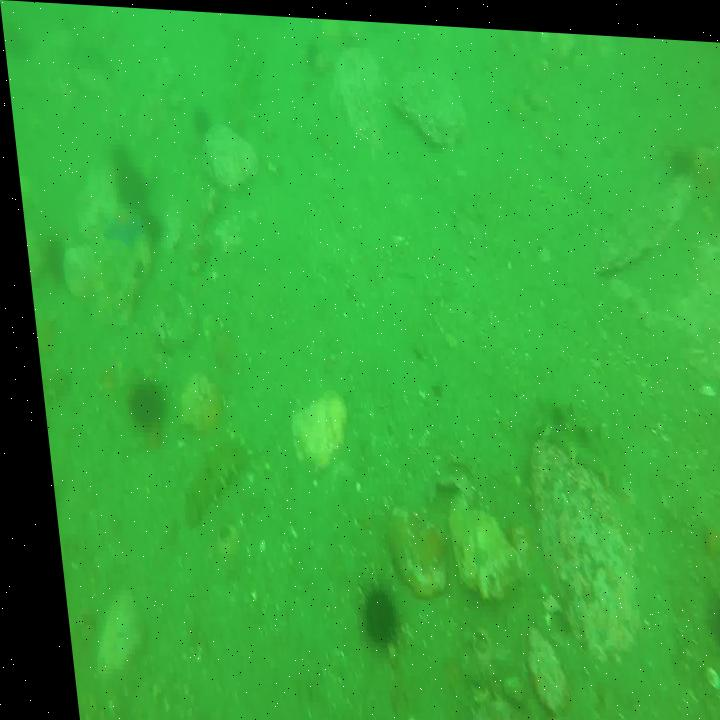echinus: (343, 579, 390, 639), (120, 374, 160, 435), (697, 590, 720, 658), (112, 146, 140, 199)
holothurian: (525, 384, 612, 481), (168, 435, 242, 528)
starfish: (95, 201, 143, 250)
